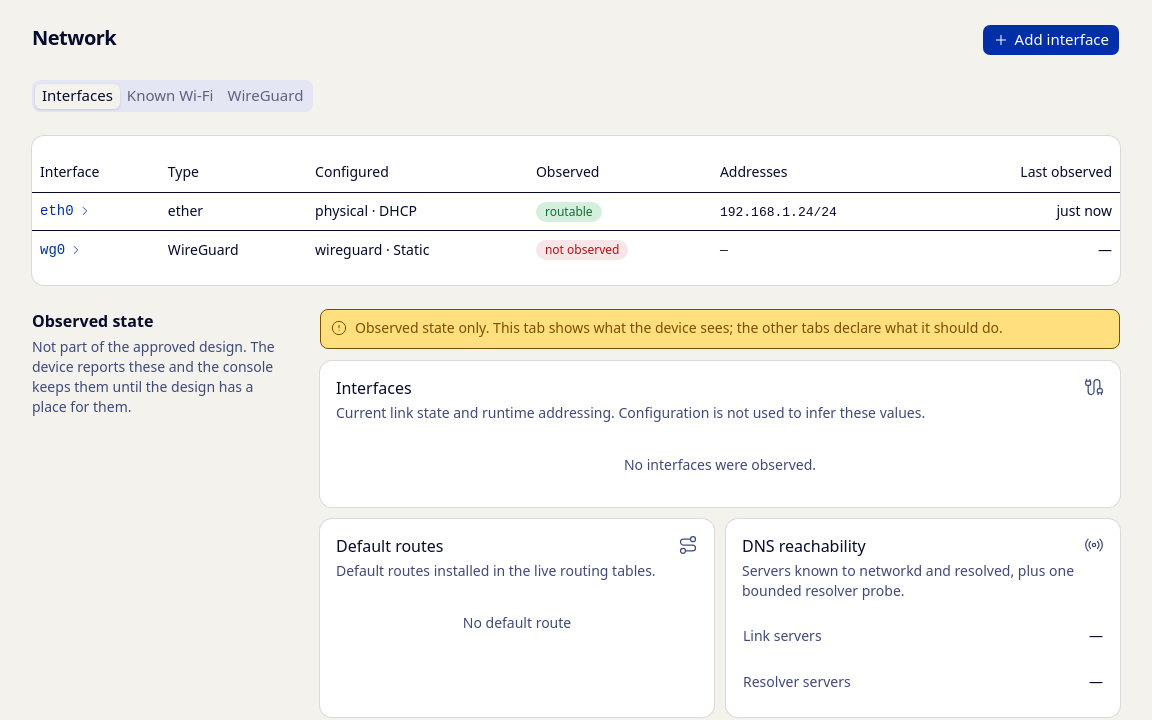
Test: the add-interface dialog › asks only for what a VLAN interface needs
Click the button "Add interface" at coordinates (1051, 40), box [982, 24, 1120, 56]
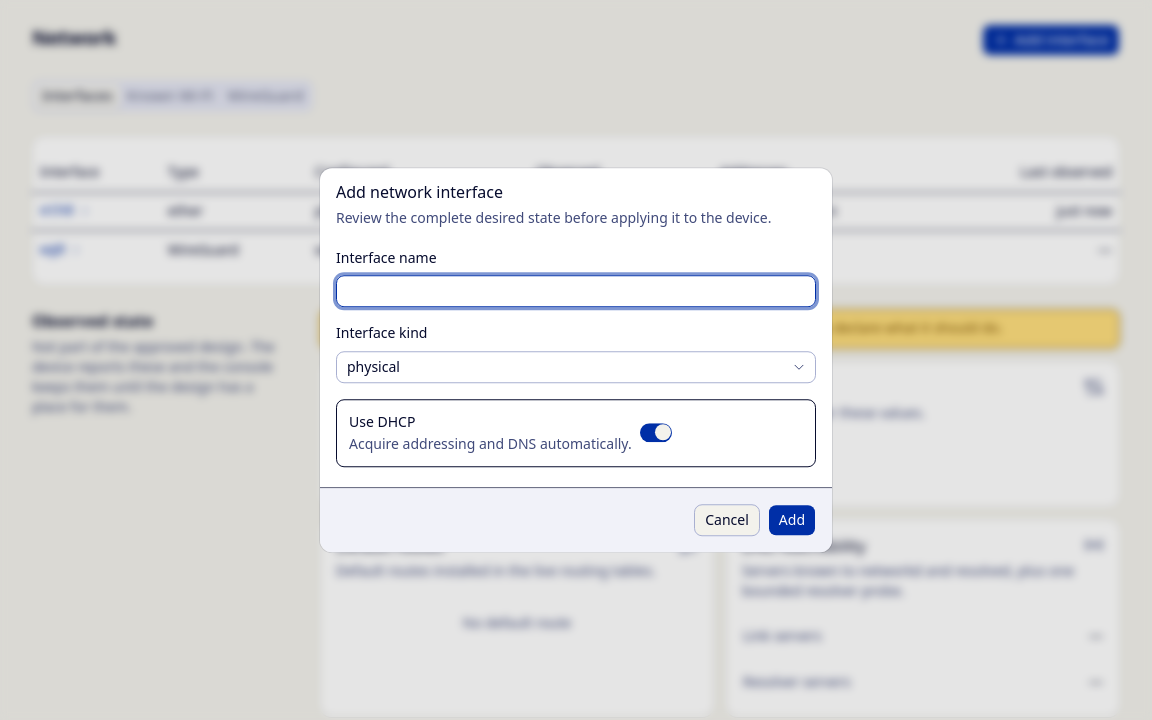
Click the dropdown named "Interface kind" at coordinates (373, 366), box [336, 351, 816, 383]
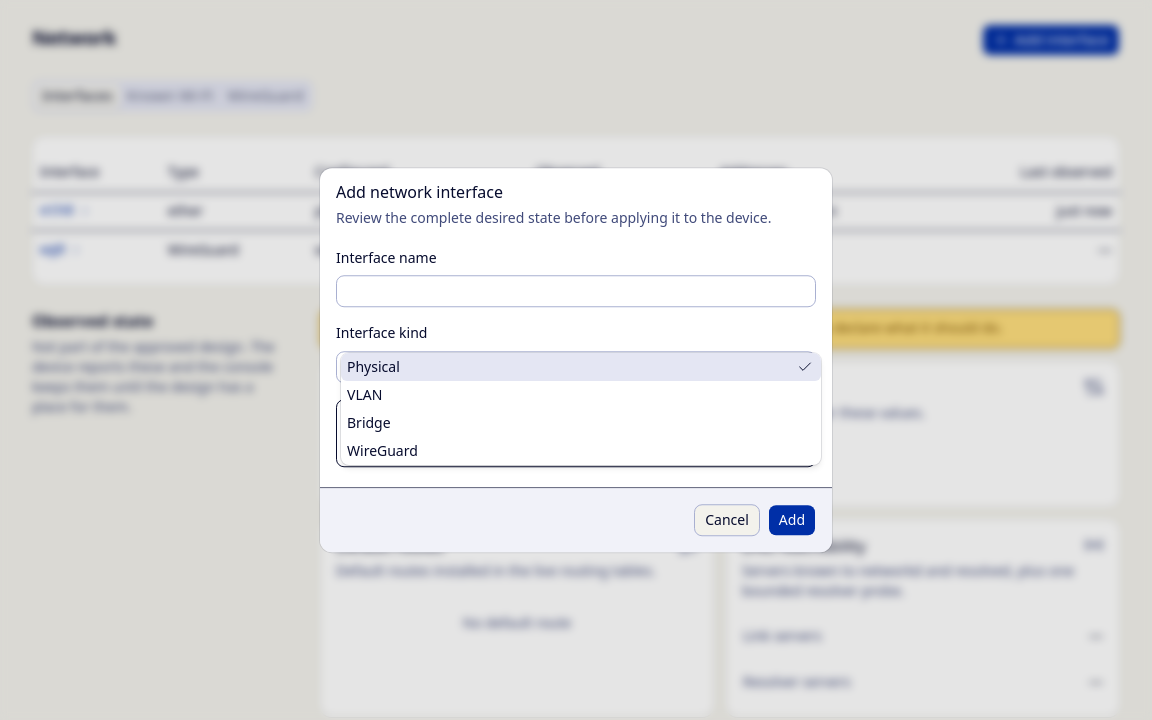
Click the option "VLAN" at coordinates (365, 394), box [347, 385, 382, 404]
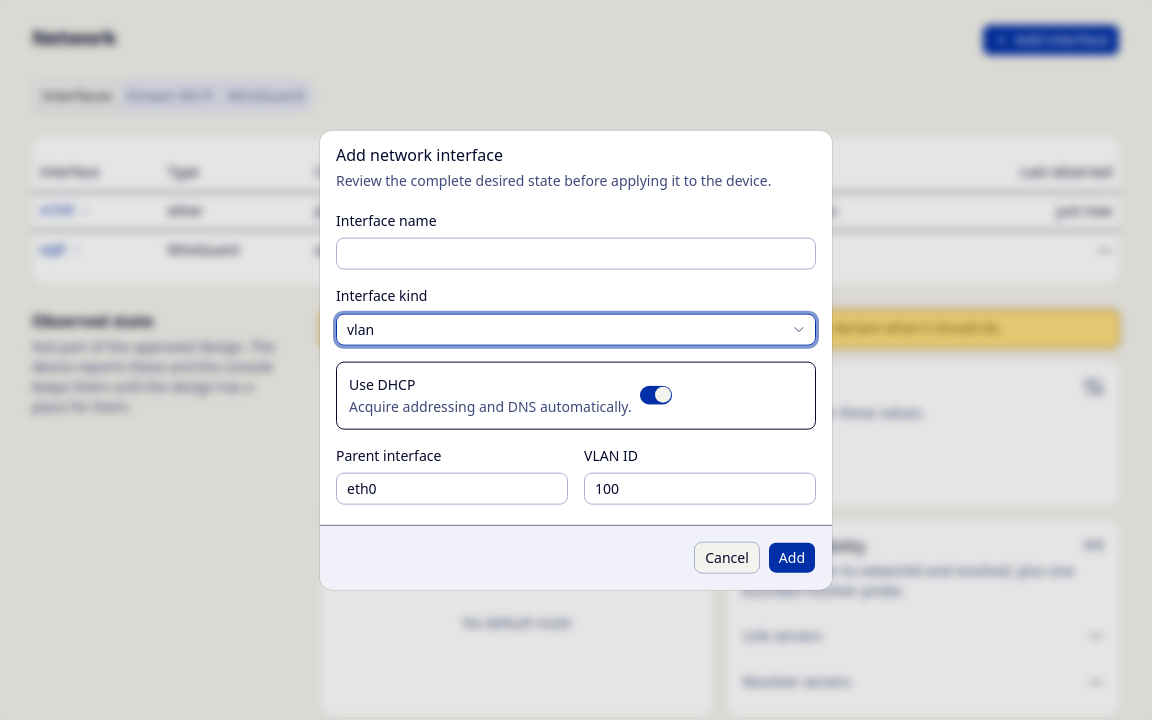
Expected: the field labelled "Parent interface" is shown, [336, 472, 568, 504]
Expected: the number field labelled "VLAN ID" is shown, [584, 472, 816, 504]
